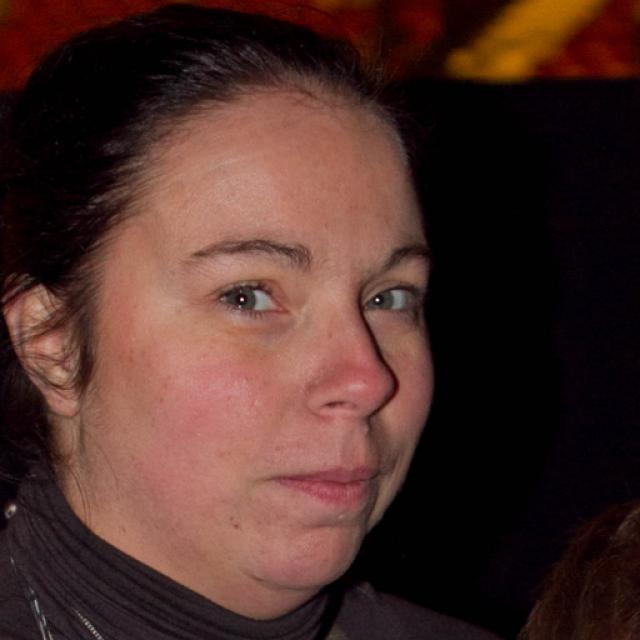neutral: (83, 71, 438, 595)
